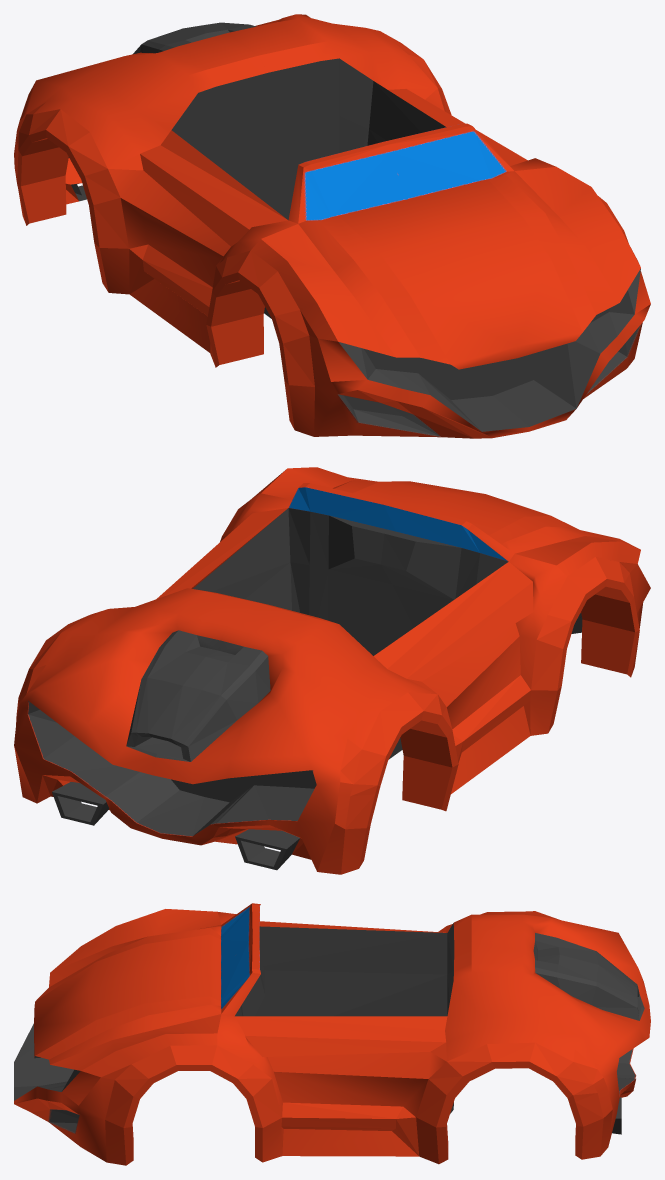
The model's file is car.FBX.
3 renders of one model, top to bottom at view 1: azimuth 30°, elevation 25°; view 2: azimuth 150°, elevation 25°; view 3: azimuth 270°, elevation 25°, orthographic. The views are drawn at different scales.
Parts seen in each view (by area): view 1: Box001; view 2: Box001; view 3: Box001.
Boxes of the visible parts, <box> form: Box001: <box>14,14,650,438</box>; Box001: <box>14,467,650,874</box>; Box001: <box>14,903,650,1165</box>.
Size of the model in its own units: 1626 by 821 by 2961.
